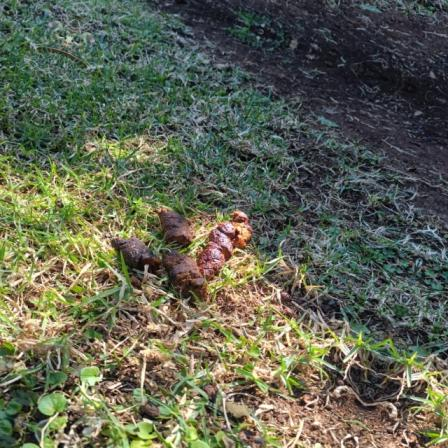dog-poop: (113, 196, 256, 302)
